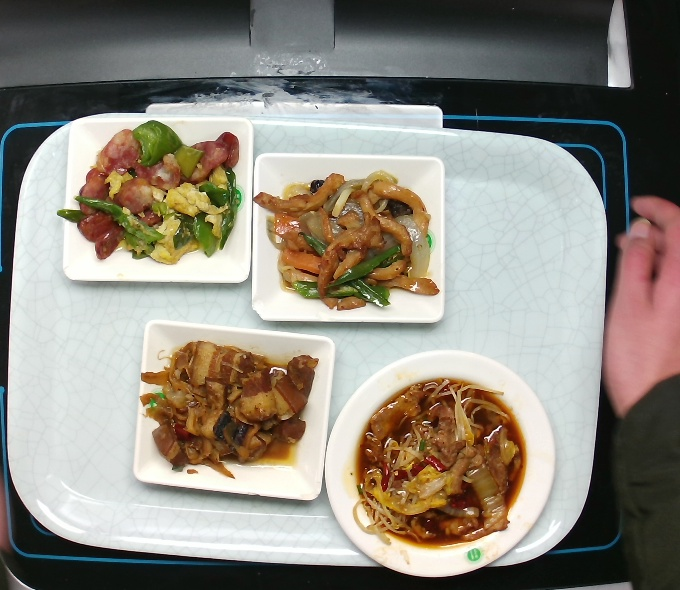wcq-HongShaoRou: (135, 339, 320, 479)
wcq-QingJiaoJiDanChaoDaChang: (55, 118, 242, 265)
wcq-QingJiaoRouSi: (250, 167, 442, 314)
wcq-ShuiZhuRouPian: (351, 374, 532, 550)
